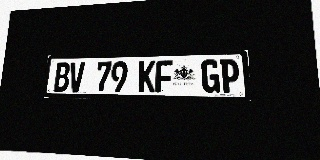7: (95, 62, 112, 92)
9: (111, 61, 128, 92)
B: (54, 63, 70, 92)
F: (155, 60, 173, 93)
G: (201, 59, 220, 93)
K: (138, 61, 155, 92)
P: (220, 59, 240, 93)
V: (68, 62, 85, 92)
